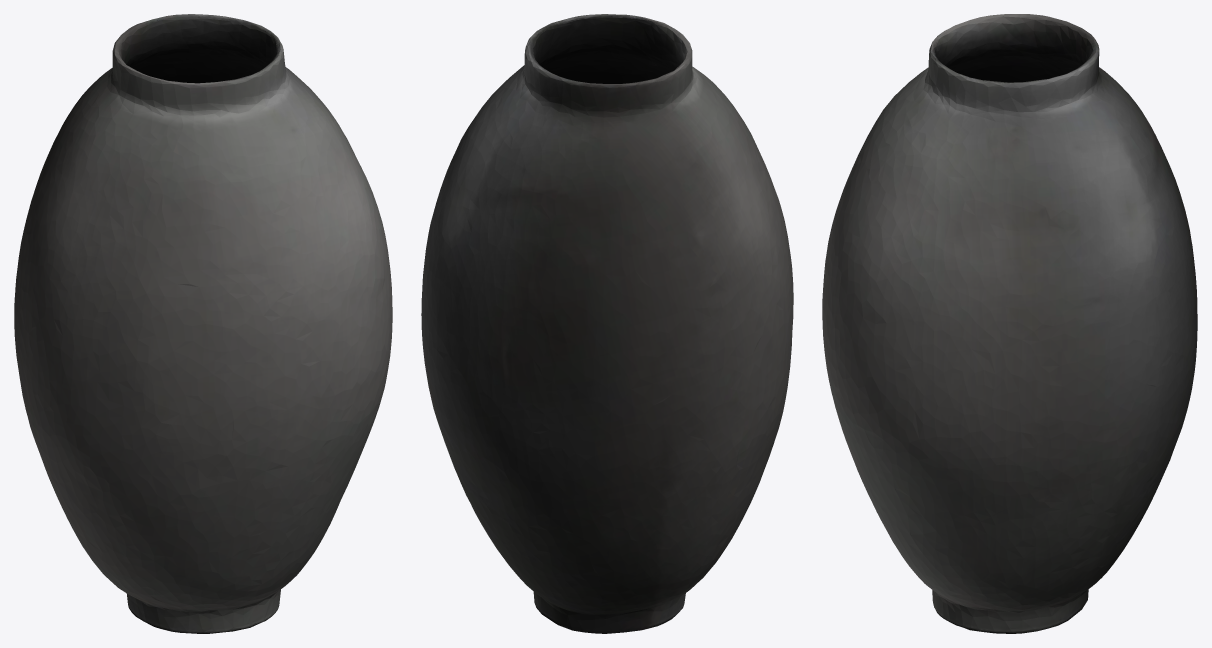
The model's file is ast_4e1531addf4a.glb.
The picture shows the model from 3 angles, left to right: view 1: azimuth 30°, elevation 25°; view 2: azimuth 150°, elevation 25°; view 3: azimuth 270°, elevation 25°; orthographic projection.
Parts seen in each view (by area): view 1: geometry_0; view 2: geometry_0; view 3: geometry_0.
Part boxes in pixels (x1=…): geometry_0: x1=14, y1=14, x2=392, y2=633; geometry_0: x1=421, y1=14, x2=793, y2=633; geometry_0: x1=822, y1=14, x2=1197, y2=633.
Size of the model in its own units: 0.428 by 0.6958 by 0.4277.
1 material, 1 textured.
